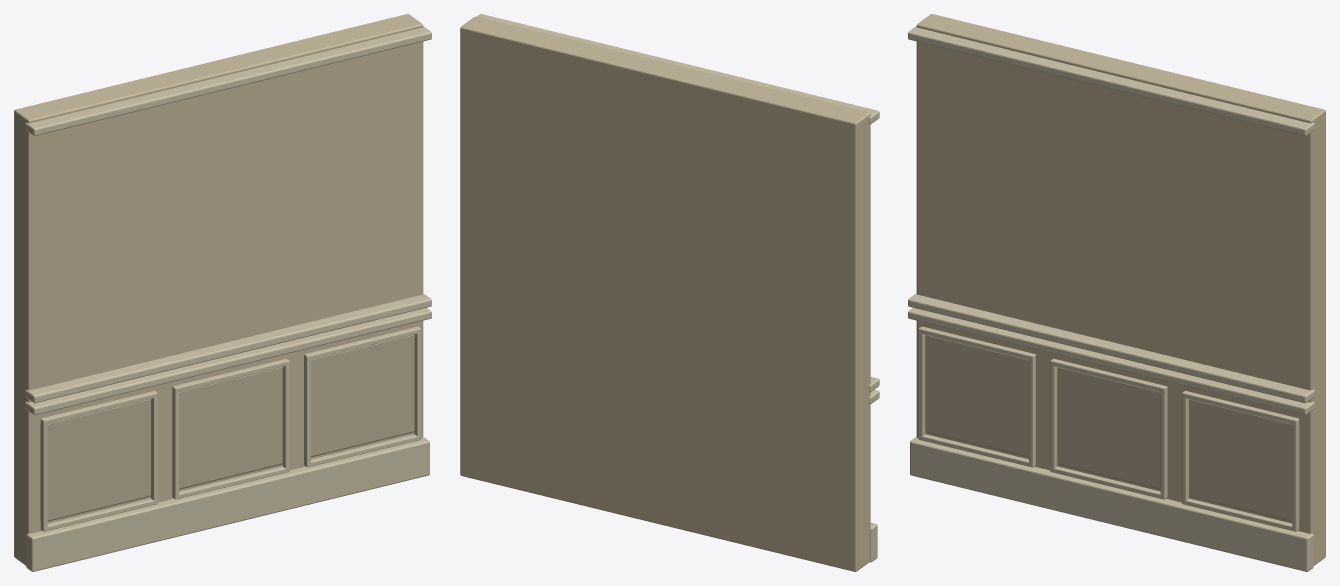
Rendered from paneled-wall.glb.
The picture shows the model from 3 angles, left to right: view 1: azimuth 30°, elevation 25°; view 2: azimuth 150°, elevation 25°; view 3: azimuth 330°, elevation 25°; orthographic projection.
Parts seen in each view (by area): view 1: paneled-wall__Visual_matte; view 2: paneled-wall__Visual_matte; view 3: paneled-wall__Visual_matte.
Boxes of the visible parts, box(x1,y1,x2,y2) form: paneled-wall__Visual_matte: box(14, 14, 431, 571); paneled-wall__Visual_matte: box(460, 14, 879, 571); paneled-wall__Visual_matte: box(908, 14, 1325, 571).
Size of the model in its own units: 2.42 by 2.6 by 0.235.
